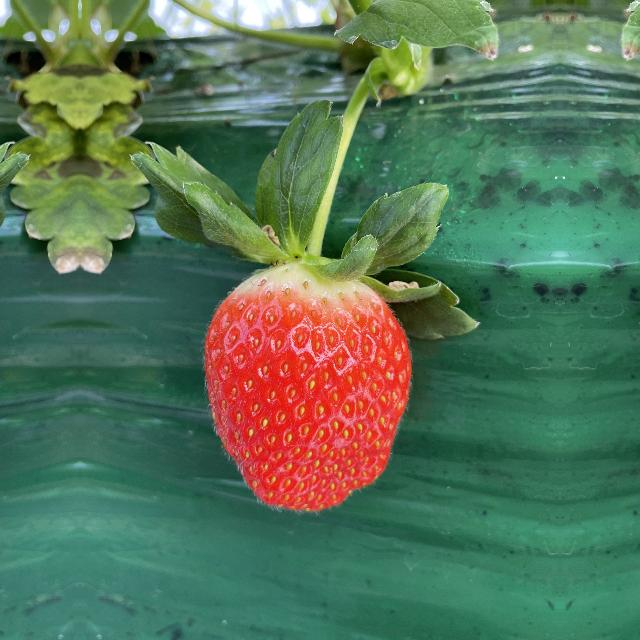Health_100: (198, 251, 414, 525)
